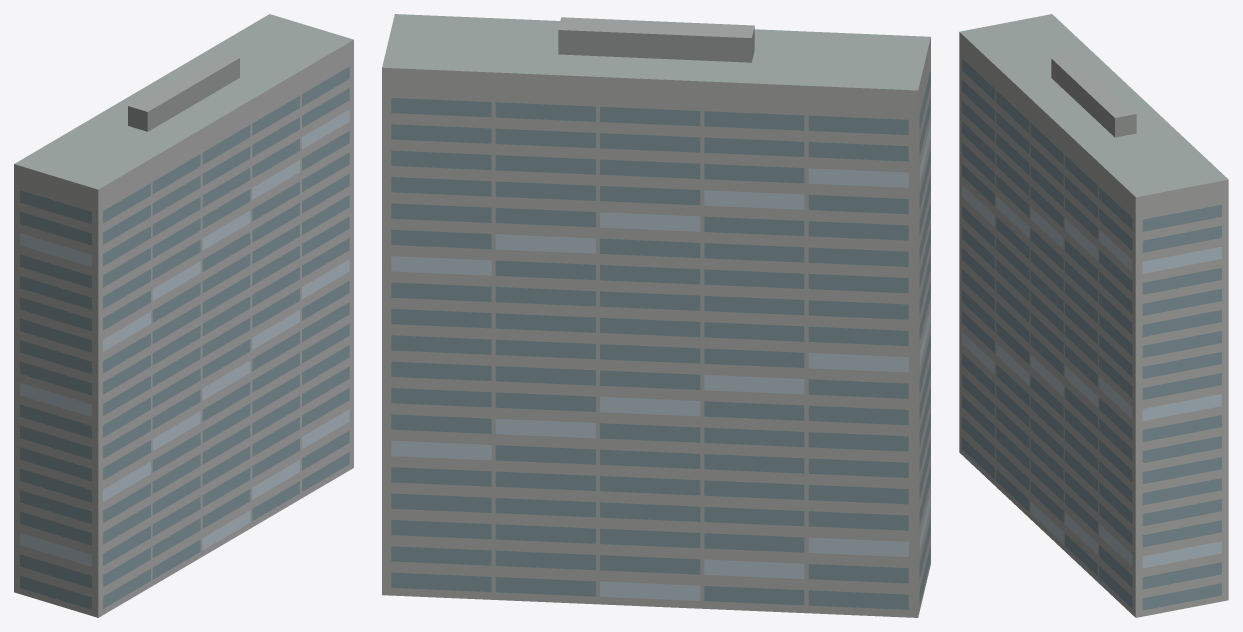
The model's file is fallback-dogok-rexls-208.glb.
The picture shows the model from 3 angles, left to right: view 1: azimuth 30°, elevation 25°; view 2: azimuth 150°, elevation 25°; view 3: azimuth 270°, elevation 25°; orthographic projection. The views are drawn at different scales.
Parts seen in each view (by area): view 1: fallback-dogok-rexls-208; view 2: fallback-dogok-rexls-208; view 3: fallback-dogok-rexls-208.
Part boxes in pixels (x1,y1,x2,y2): fallback-dogok-rexls-208: [14, 14, 353, 617]; fallback-dogok-rexls-208: [382, 14, 930, 617]; fallback-dogok-rexls-208: [959, 14, 1228, 617].
Bounding box in the file's own units: 48.21 × 54 × 29.96.
